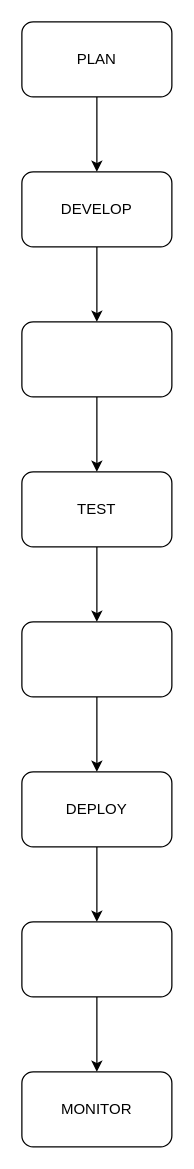
Some shapes in this 194 by 1169 pixel diagram are drawn without their labels. Each missing label, with the box of its shape:
BUILD: (21, 321, 172, 397)
OPERATE: (21, 921, 172, 997)
RECTANGLE: (21, 621, 172, 697)
